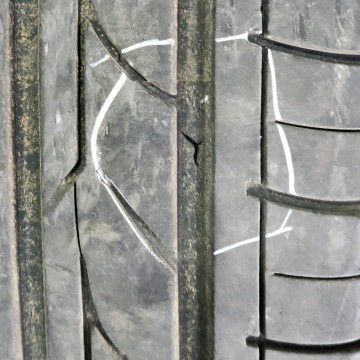tr: (175, 128, 206, 172)
